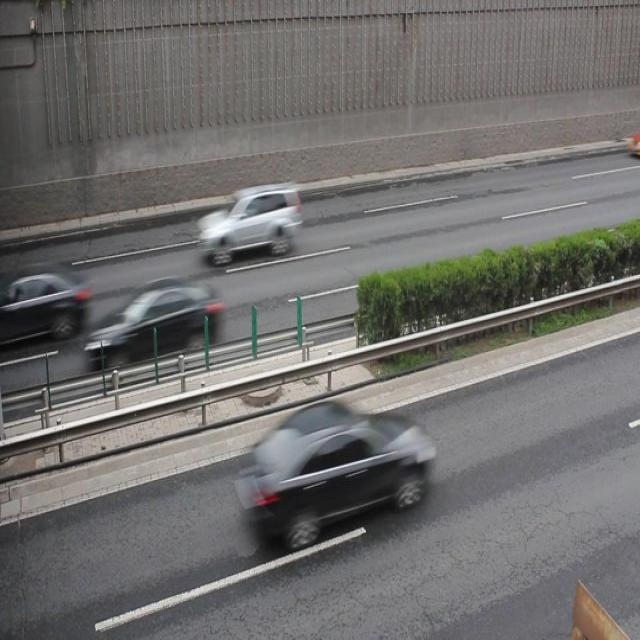car: (235, 399, 429, 543), (92, 276, 220, 368), (199, 182, 299, 264), (0, 267, 84, 347)
